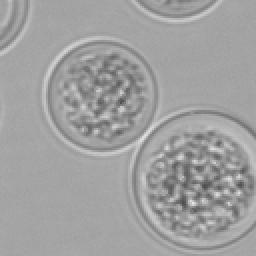picoshell: (128, 106, 254, 254), (42, 34, 162, 158), (130, 0, 222, 22)
